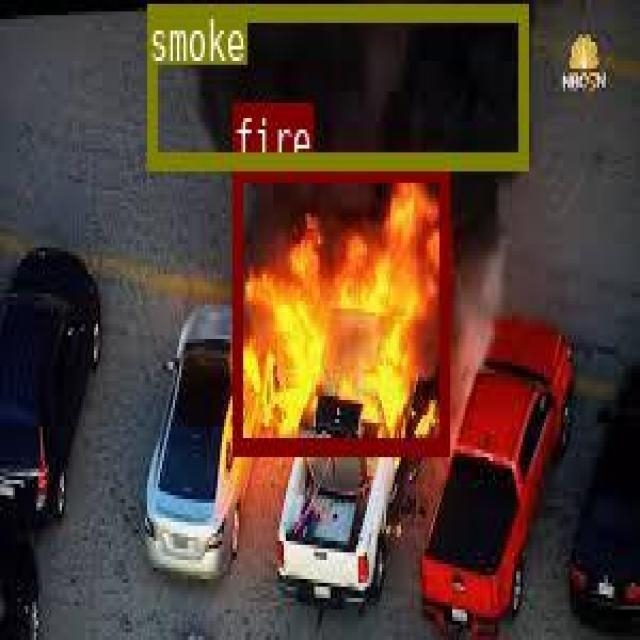fire: (231, 161, 447, 453)
smoke: (145, 2, 526, 166)
